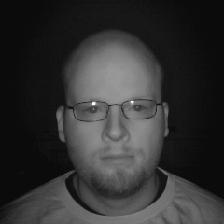normal: (49, 29, 174, 199)
